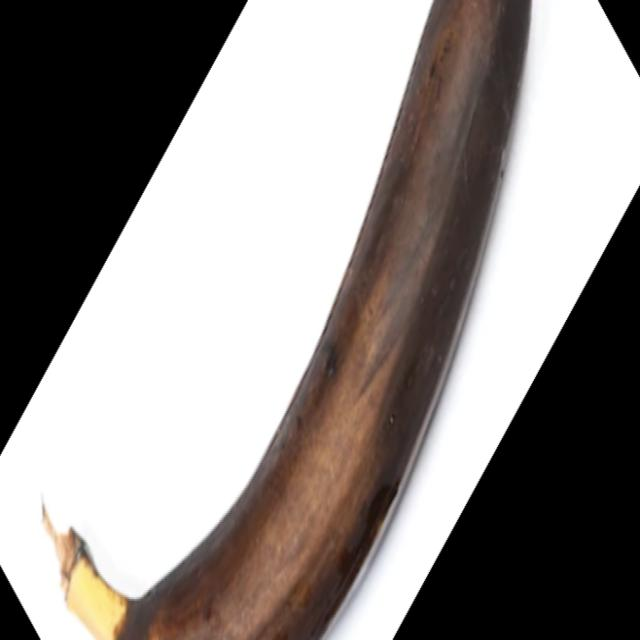Rotten: (42, 0, 536, 640)
